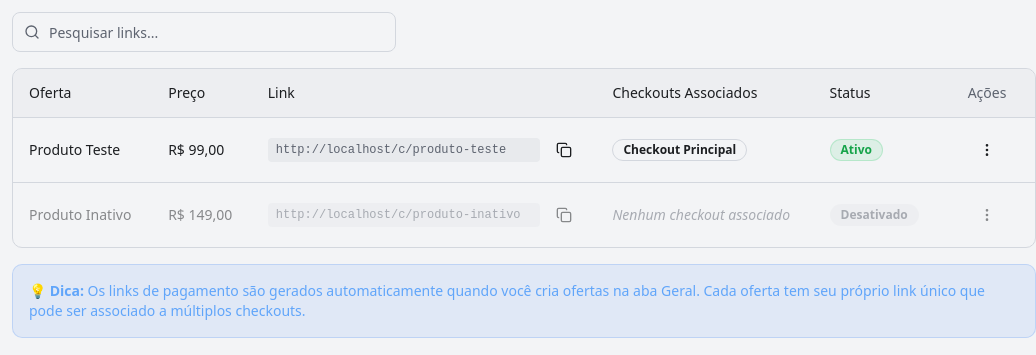
LinksTable › Search Functionality › filters links by slug
Type "inativo" into the field with placeholder "Pesquisar links...". click: coordinates (204, 32)
box: [12,12,396,52]
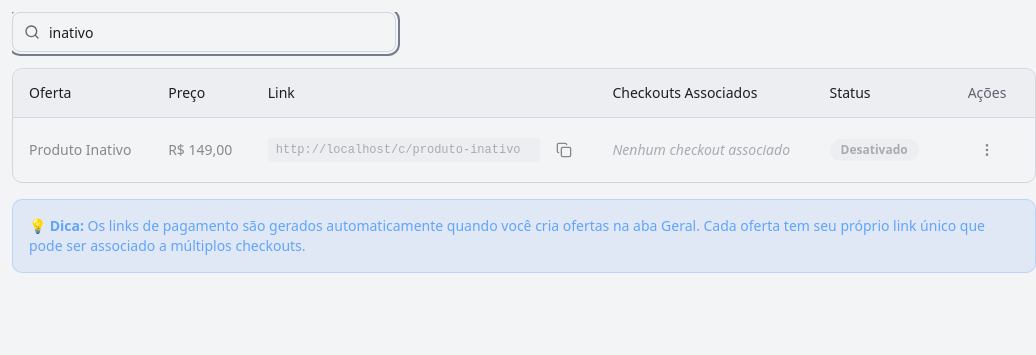
Expected: the text "Produto Inativo" is shown, [13,117,152,182]
Result: the text "Produto Teste" is gone
